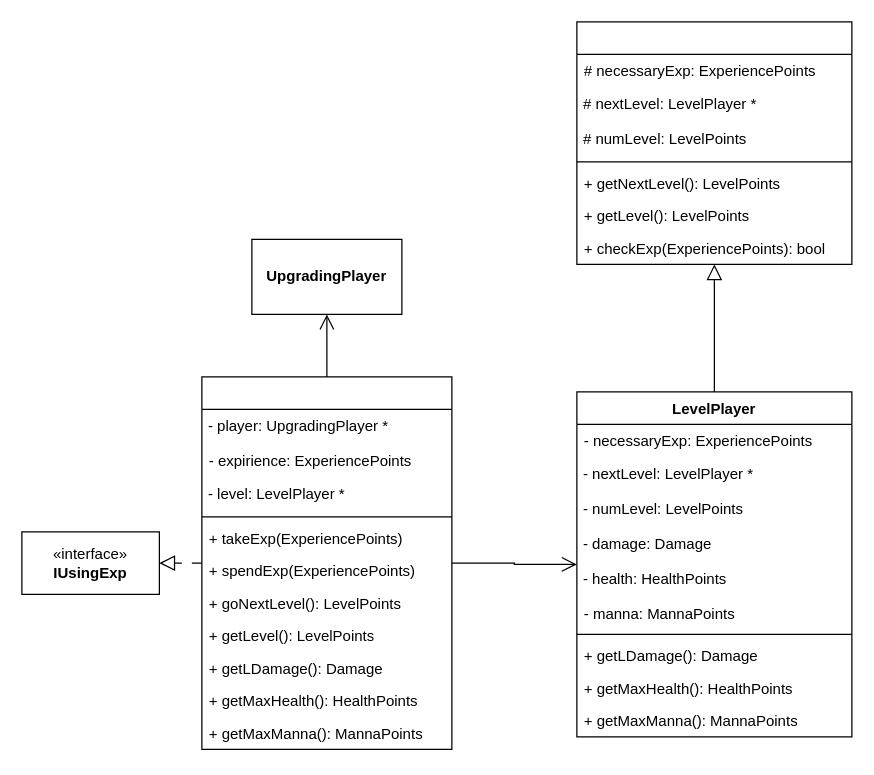
This 874x775 diagram has some shape labels left out. Each missing label, with the box of its shape:
LevelEntity: (576, 21, 852, 264)
LevelPlayerSub: (201, 376, 452, 749)
